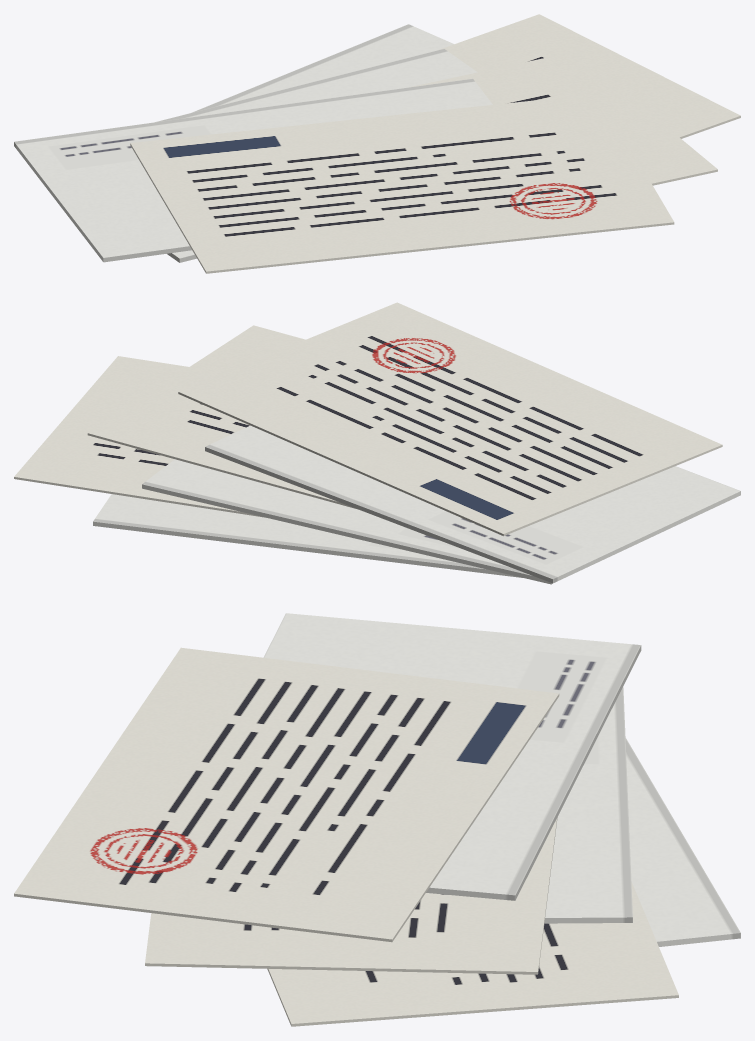
File: escena.casa.cartas_rechazo.fbx
3 views of the same model, one above another, from view 1: azimuth 30°, elevation 25°; view 2: azimuth 150°, elevation 25°; view 3: azimuth 270°, elevation 25° (orthographic). The views are drawn at different scales.
Parts seen in each view (by area): view 1: Carta.002, Sobre.002, Carta, Carta.001, Sobre.001, Sobre; view 2: Carta.002, Sobre.002, Carta, Carta.001, Sobre.001, Sobre; view 3: Carta.002, Sobre.002, Carta, Carta.001, Sobre.001, Sobre.
Boxes of the visible parts, left/top/right/bottom form: Carta.002: left=130, top=93, right=674, bottom=273; Sobre.002: left=14, top=78, right=492, bottom=262; Carta: left=439, top=14, right=740, bottom=138; Carta.001: left=408, top=51, right=717, bottom=185; Sobre.001: left=155, top=49, right=477, bottom=262; Sobre: left=192, top=24, right=453, bottom=112; Carta.002: left=178, top=302, right=722, bottom=536; Sobre.002: left=205, top=425, right=740, bottom=583; Carta: left=14, top=356, right=264, bottom=517; Carta.001: left=87, top=325, right=357, bottom=509; Sobre.001: left=142, top=459, right=552, bottom=584; Sobre: left=93, top=494, right=522, bottom=577; Carta.002: left=14, top=647, right=559, bottom=942; Sobre.002: left=263, top=613, right=641, bottom=900; Carta: left=267, top=882, right=678, bottom=1026; Carta.001: left=145, top=817, right=557, bottom=974; Sobre.001: left=544, top=687, right=632, bottom=923; Sobre: left=625, top=738, right=740, bottom=946.
Size of the model in its own units: 0.3061 by 0.011 by 0.2401.
4 materials, 4 textured.
